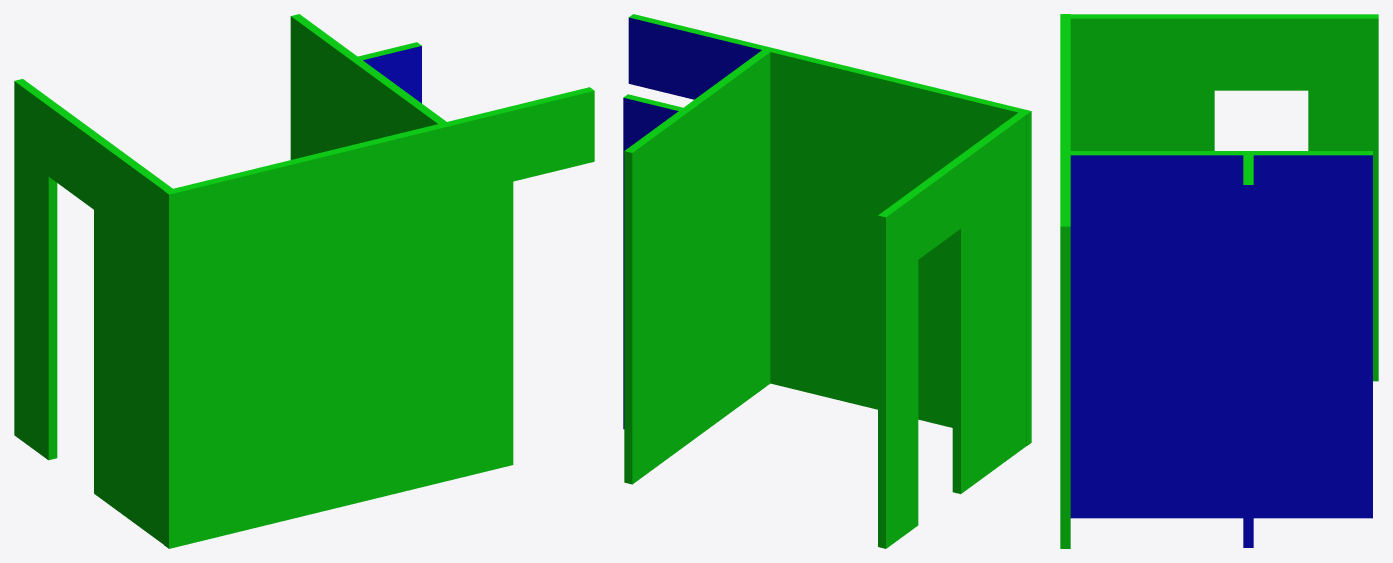
File: WallKitchen.fbx
The picture shows the model from 3 angles, left to right: view 1: azimuth 30°, elevation 25°; view 2: azimuth 150°, elevation 25°; view 3: azimuth 270°, elevation 25°; orthographic projection. The views are drawn at different scales.
Parts seen in each view (by area): view 1: Rectangle017, Rectangle018, Rectangle019, Rectangle020, Rectangle021; view 2: Rectangle017, Rectangle020, Rectangle018, Rectangle019, Rectangle021; view 3: Rectangle020, Rectangle018, Rectangle019, Rectangle017, Rectangle021.
Part boxes in pixels (x1,y1,x2,y2): Rectangle017: (164, 87, 594, 548); Rectangle018: (47, 103, 172, 544); Rectangle019: (14, 79, 57, 460); Rectangle020: (290, 14, 447, 159); Rectangle021: (355, 42, 421, 103); Rectangle017: (628, 14, 1031, 445); Rectangle020: (624, 50, 770, 484); Rectangle018: (909, 112, 1026, 493); Rectangle019: (878, 192, 918, 548); Rectangle021: (623, 94, 686, 429); Rectangle020: (1069, 151, 1372, 518); Rectangle018: (1069, 14, 1309, 150); Rectangle019: (1308, 14, 1378, 381); Rectangle017: (1060, 14, 1070, 548); Rectangle021: (1243, 153, 1253, 547).
Size of the model in its own units: 173 by 138 by 109.
